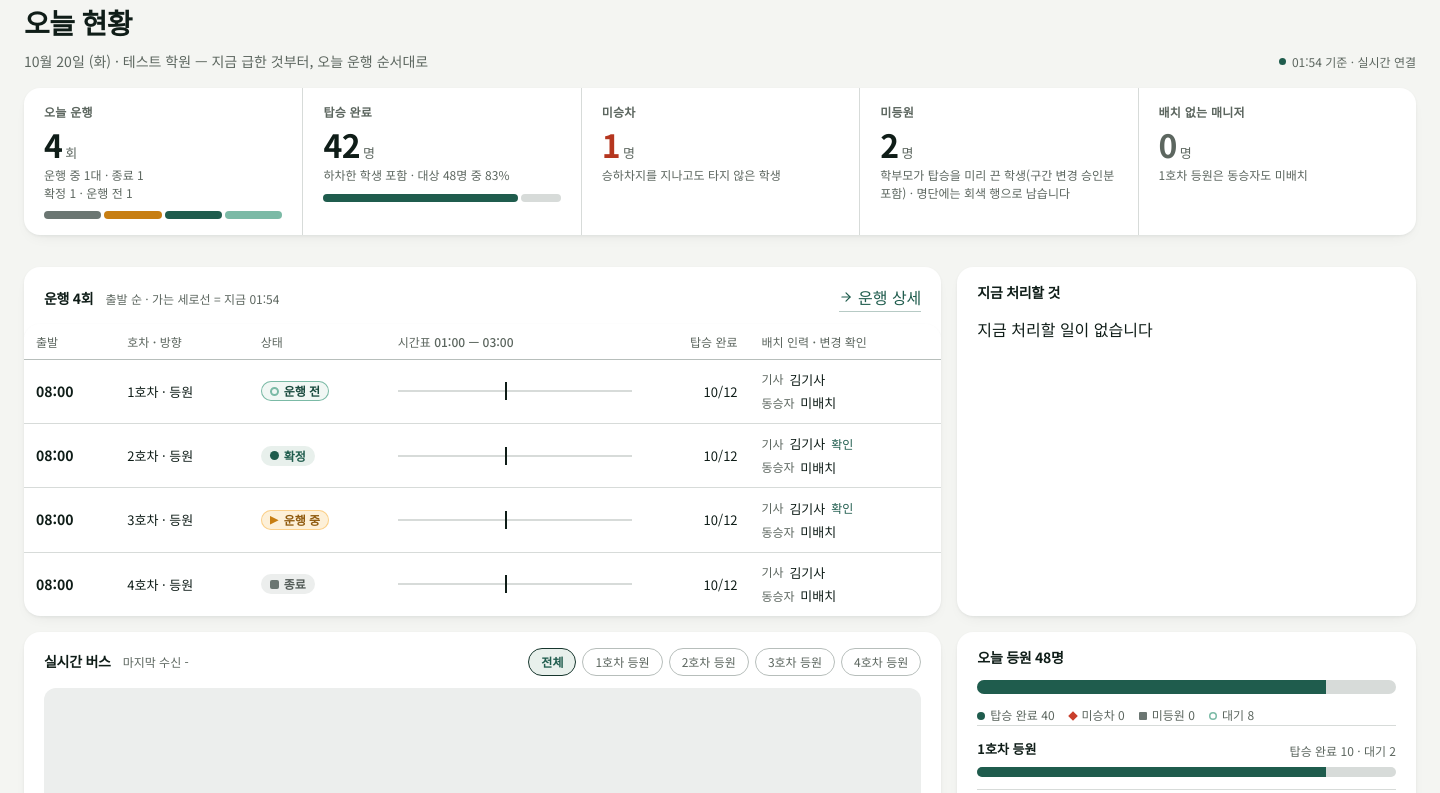
Test: DashboardPage — 버스 목록 4종 상태·노선 선택 › 고정 노선이 없는 idle 회차를 고르면 고정 노선이 없다는 안내(편성 화면 링크 포함)를 보여준다
The width and height of the screenshot is (1440, 793).
Step 1. Click the button "1호차 등원" → (623, 662), box left=582, top=648, right=663, bottom=676
(page scrolled)
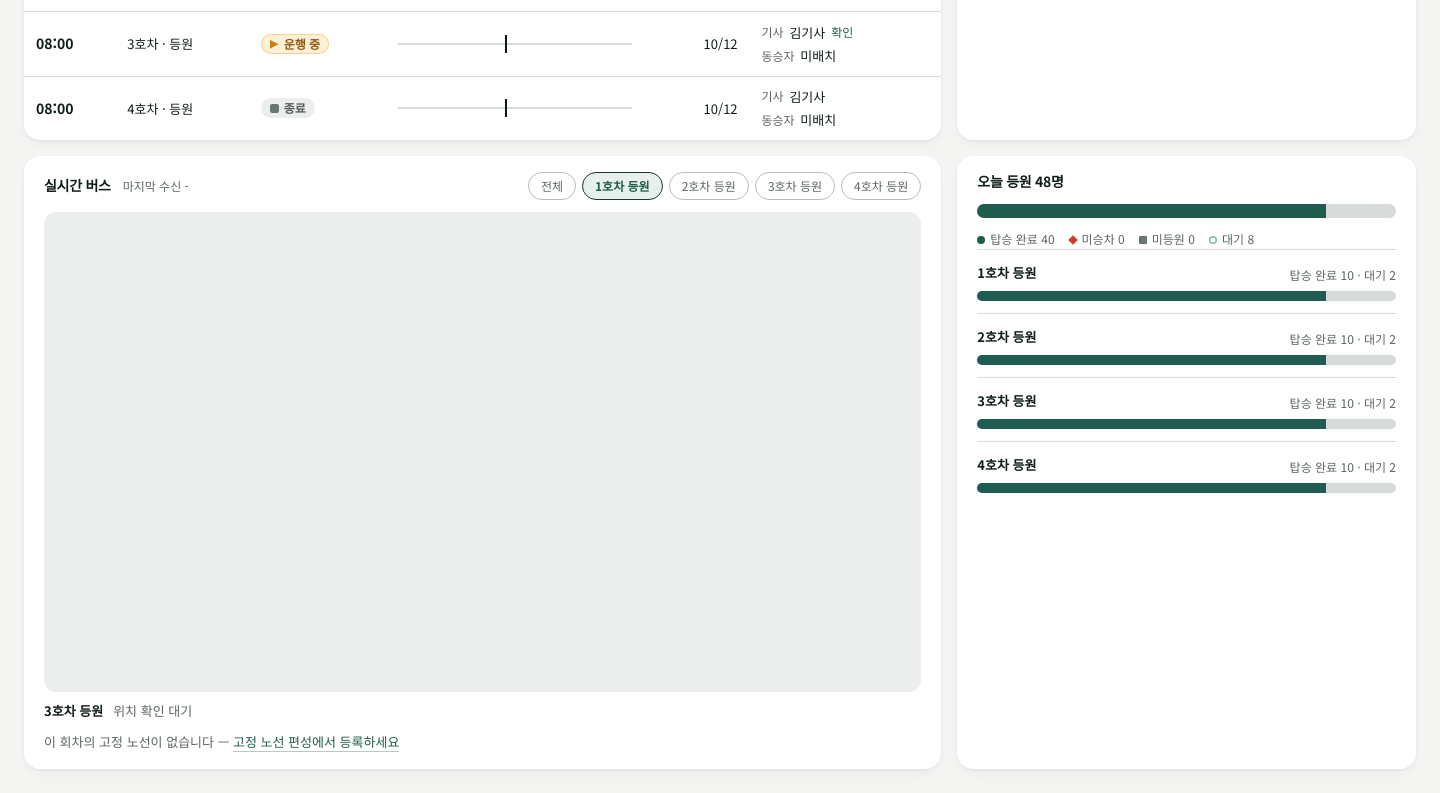
Now the text "이 회차의 고정 노선이 없습니다 — 고정 노선 편성에서 등록하세요" is shown, box left=44, top=732, right=399, bottom=752
